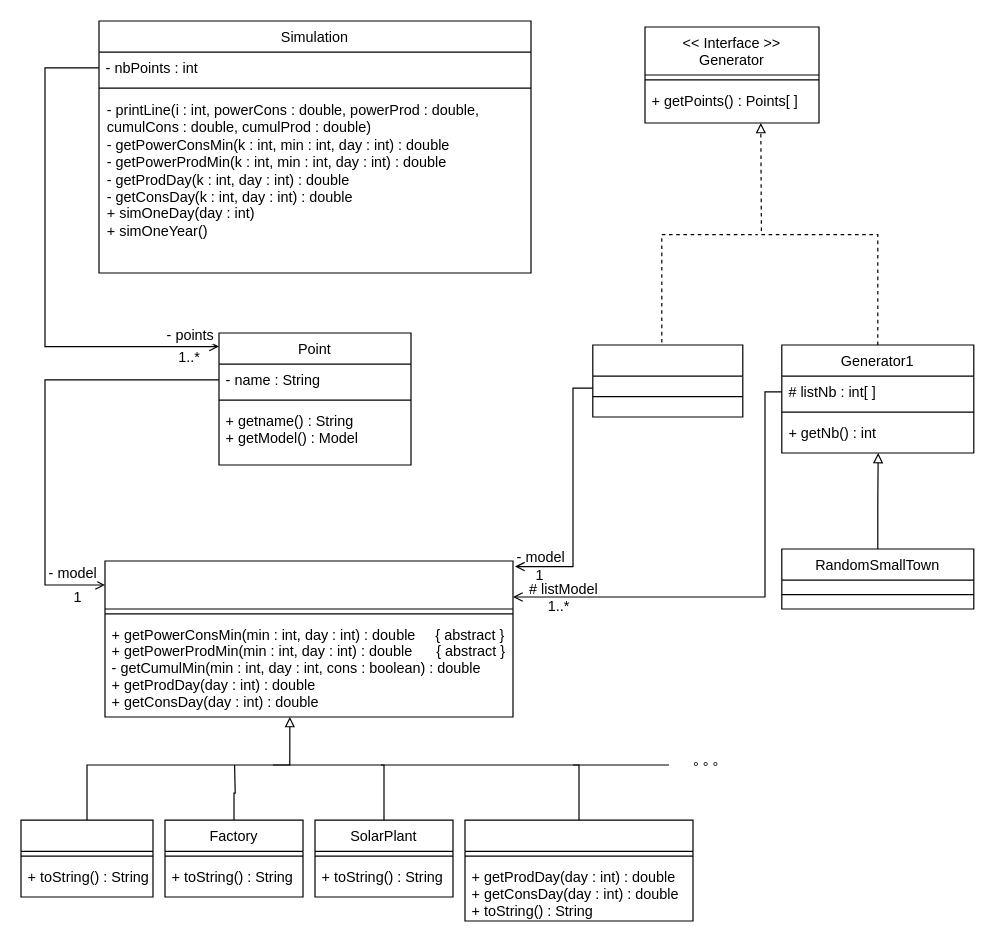
This 995x942 diagram has some shape labels left out. Each missing label, with the box of its shape:
Generator0: (592, 344, 743, 417)
House: (20, 819, 153, 897)
Model { abstract }: (104, 560, 513, 717)
NuclearPlant: (464, 819, 693, 921)
